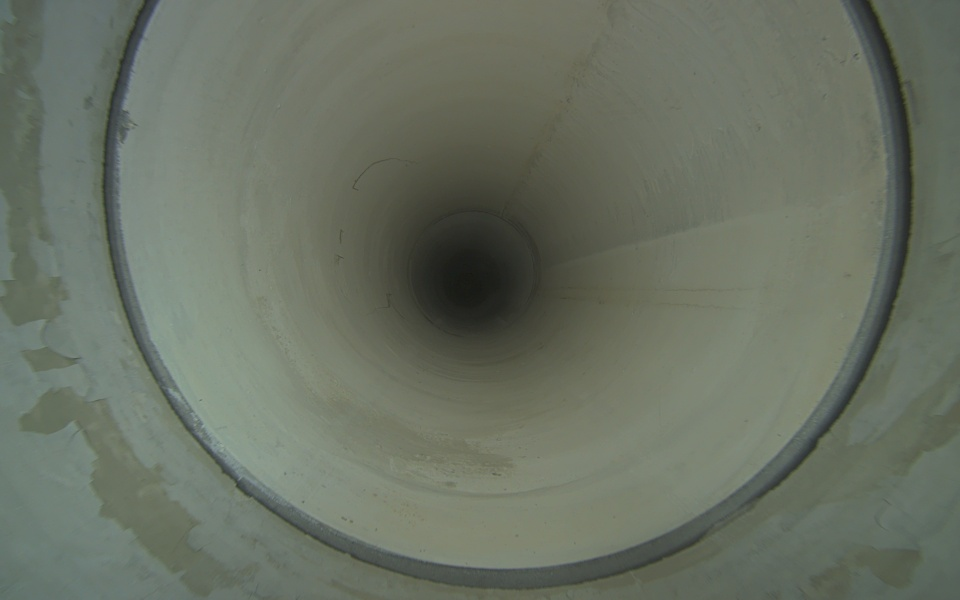circle1: (101, 0, 918, 595)
circle2: (443, 249, 499, 310)
